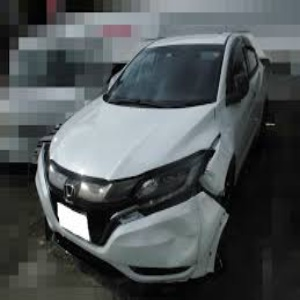bumper: (133, 190, 229, 285)
